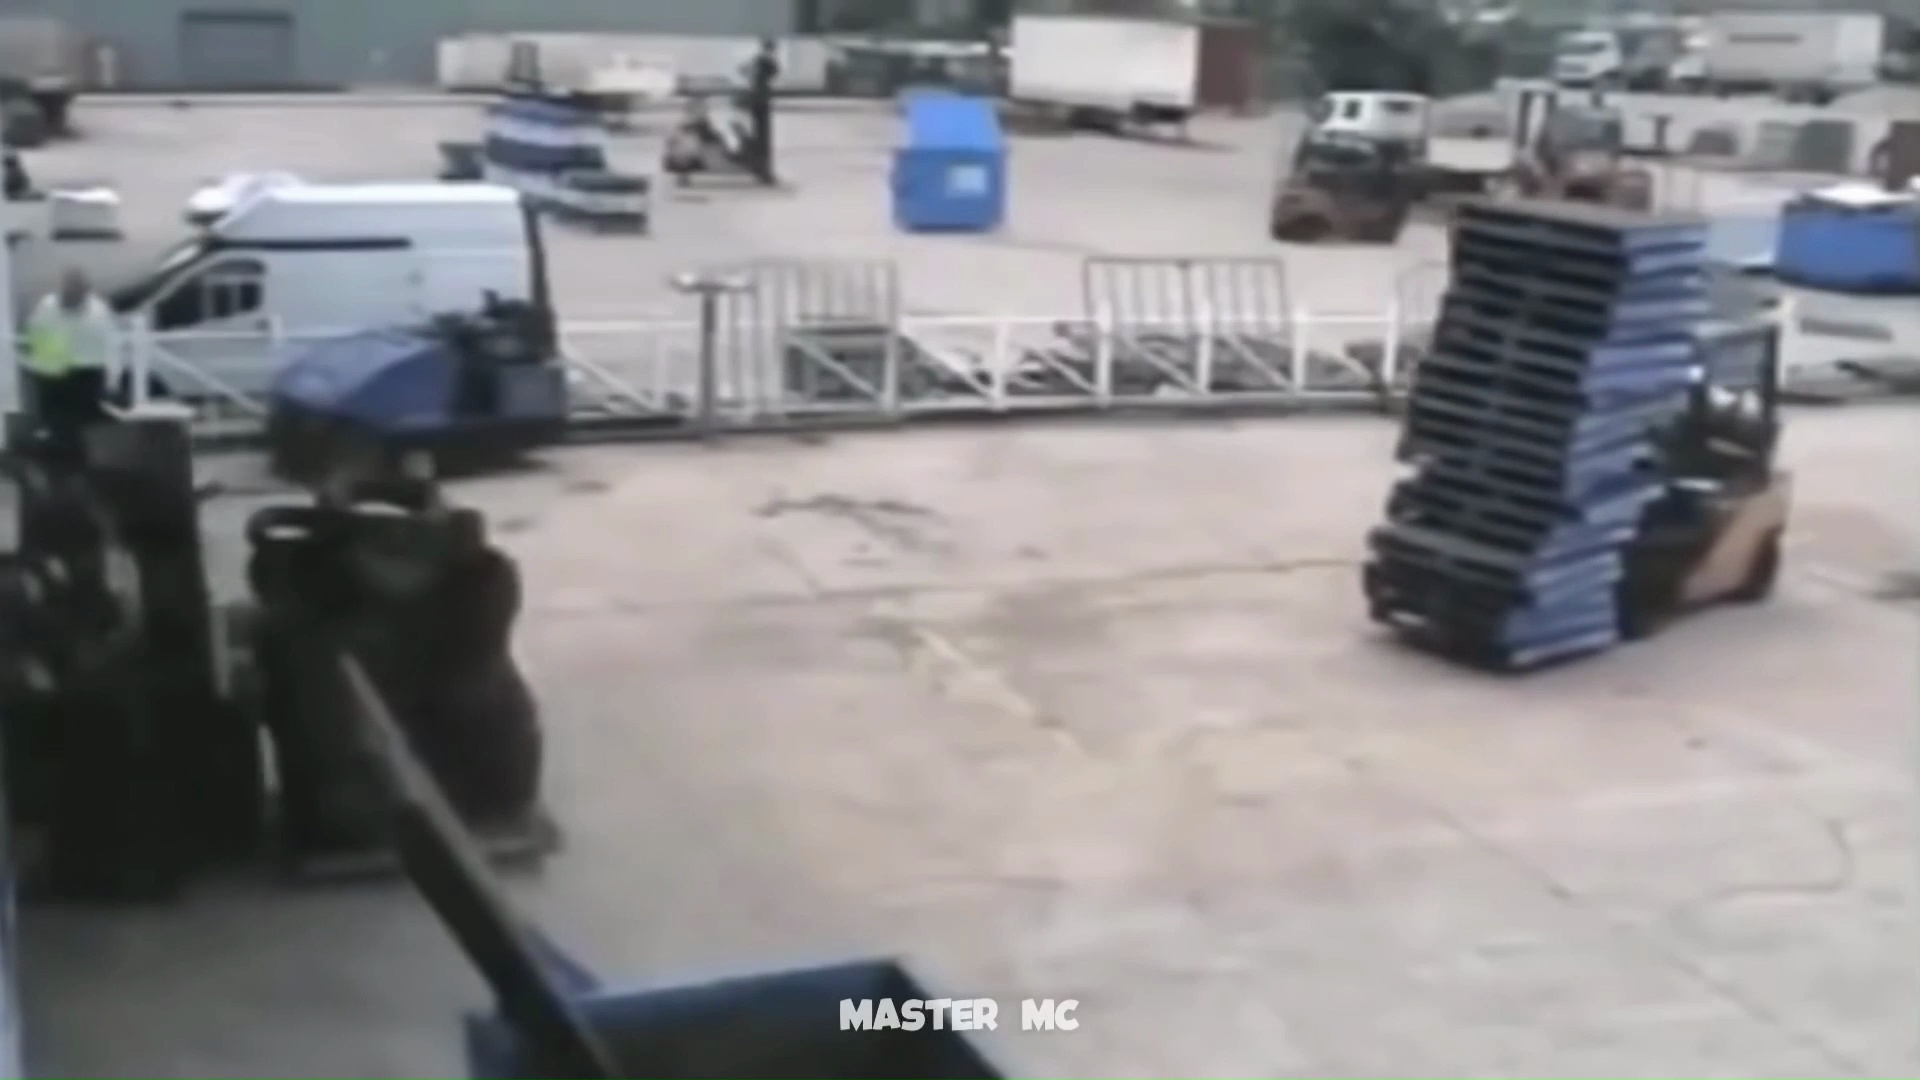forklift: (4, 409, 543, 876), (1357, 211, 1800, 675)
